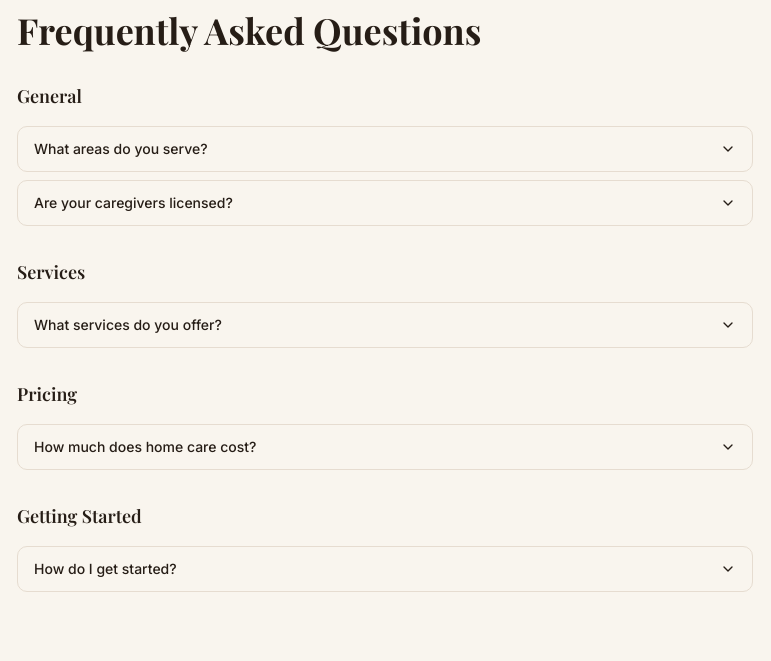
Test case: FAQ Page › clicking a question reveals the answer
Click the button "What areas do you serve?" at (121, 148), box [18, 127, 752, 171]
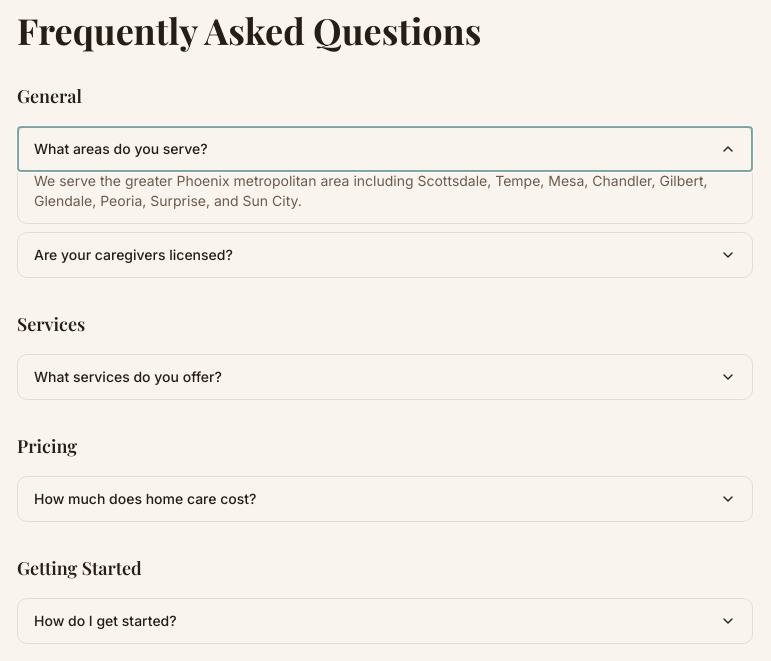
Result: the text "Phoenix" is shown at [34, 172, 708, 209]
